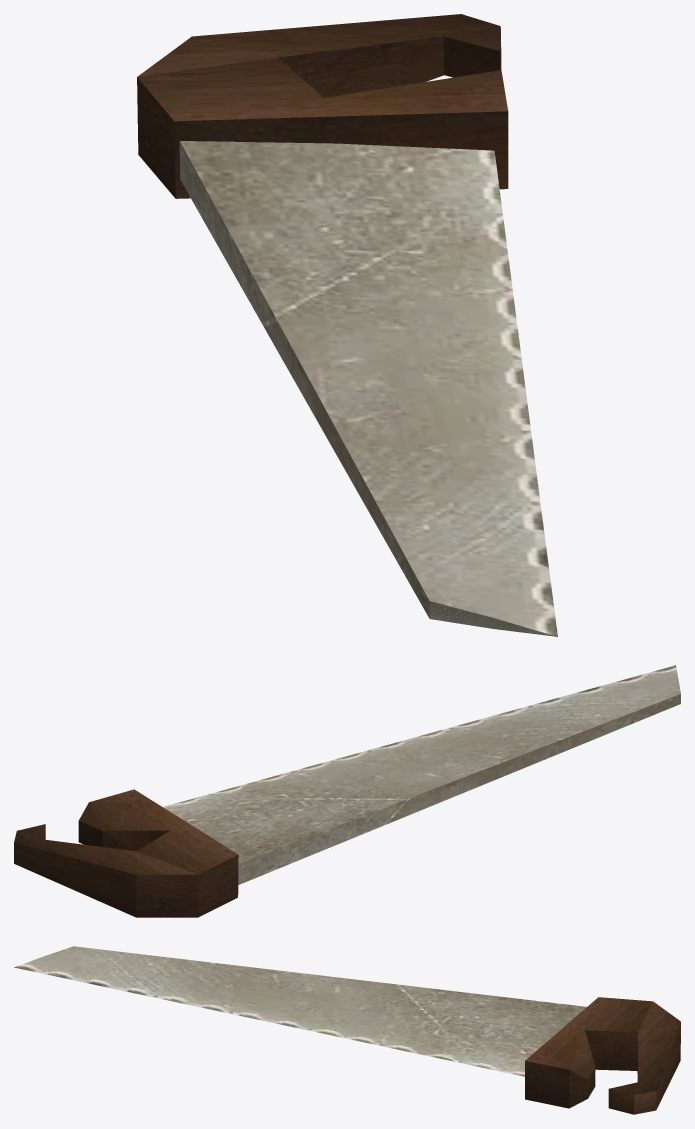
Rendered from ITMI_SAW.glb.
The picture shows the model from 3 angles, top to bottom: view 1: azimuth 30°, elevation 25°; view 2: azimuth 150°, elevation 25°; view 3: azimuth 270°, elevation 25°; orthographic projection. The views are drawn at different scales.
Parts seen in each view (by area): view 1: ITMI_SAW; view 2: ITMI_SAW; view 3: ITMI_SAW.
Part boxes in pixels (x1,y1,x2,y2): ITMI_SAW: [137, 14, 557, 636]; ITMI_SAW: [14, 665, 680, 917]; ITMI_SAW: [14, 946, 680, 1114].
Bounding box in the file's own units: 0.3409 × 0.04 × 0.623.
1 material, 1 textured.
